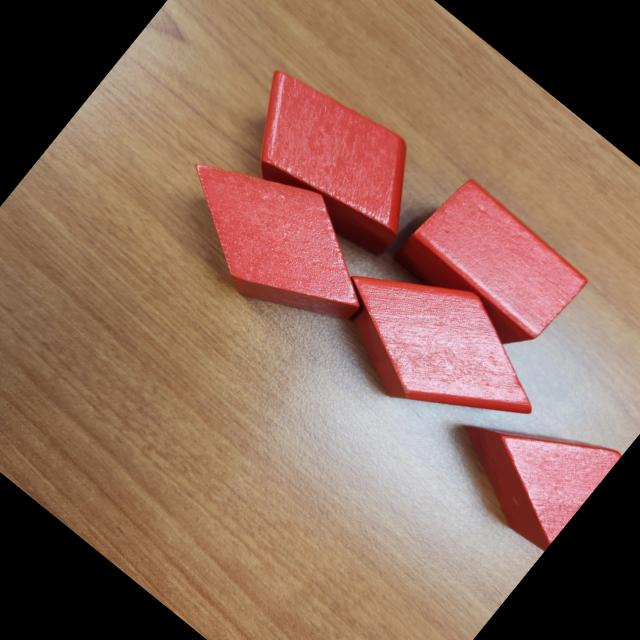red: (306, 225, 570, 476), (144, 118, 404, 364), (215, 46, 450, 268), (387, 164, 595, 363), (436, 365, 628, 558)
